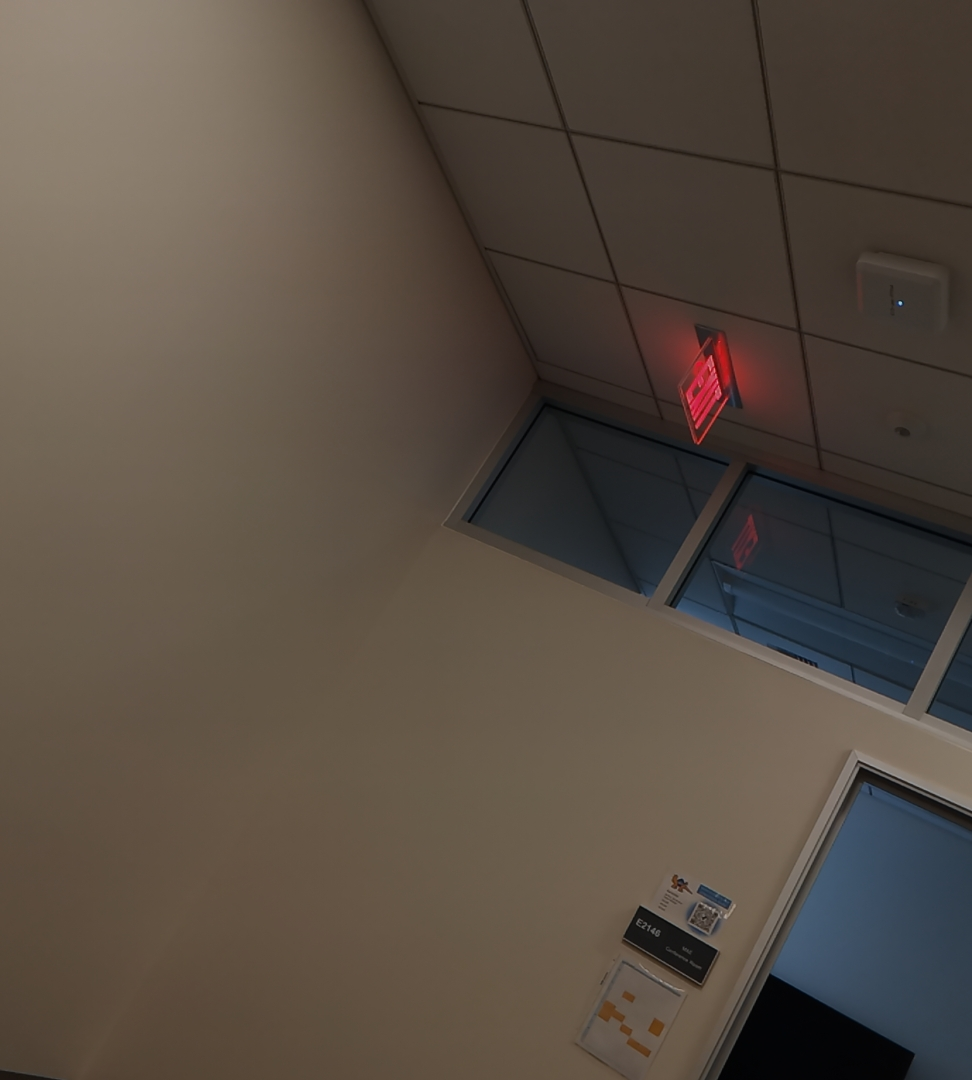emergency_exit: (621, 903, 720, 988), (675, 323, 743, 446)
